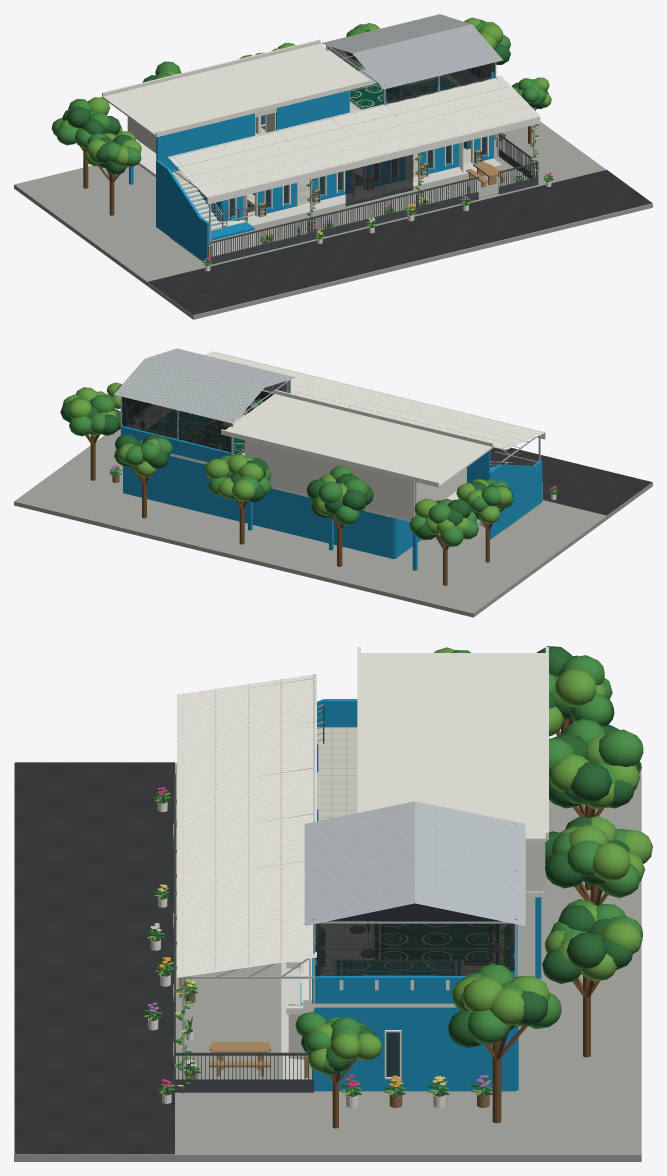
Rendered from lpq-building.glb.
3 views of the same model, one above another, from view 1: azimuth 30°, elevation 25°; view 2: azimuth 150°, elevation 25°; view 3: azimuth 270°, elevation 25° (orthographic). The views are drawn at different scales.
Parts seen in each view (by area): view 1: BUILDING Putih hangat.010, BUILDING Beton halaman.010, BUILDING Aspal bertekstur.001, BUILDING Cat biru fasad.010, BUILDING Baja galvanis.010, BUILDING Besi pagar.010, BUILDING Flora hijau 1.007, BUILDING Flora hijau 2.007, BUILDING Anyaman jaring.010, BUILDING Flora hijau 0.007, BUILDING Keramik terang.010, SHADE_REVEAL Anyaman jaring.010 (+6 smaller); view 2: BUILDING Beton halaman.010, BUILDING Putih hangat.010, BUILDING Cat biru fasad.010, BUILDING Baja galvanis.010, BUILDING Flora hijau 1.007, BUILDING Flora hijau 2.007, BUILDING Dinding interior putih.010, BUILDING Aspal bertekstur.001, BUILDING Flora hijau 0.007, SHADE_REVEAL Anyaman jaring.010, BUILDING Kulit pohon.007, BUILDING Karpet toska aula.007 (+1 smaller); view 3: BUILDING Putih hangat.010, BUILDING Aspal bertekstur.001, BUILDING Beton halaman.010, BUILDING Baja galvanis.010, BUILDING Cat biru fasad.010, BUILDING Flora hijau 2.007, BUILDING Flora hijau 1.007, BUILDING Flora hijau 0.007, SHADE_REVEAL Anyaman jaring.010, BUILDING Nat keramik.010, BUILDING Besi pagar.010, BUILDING Karpet hijau aula.007 (+6 smaller).
Boxes of the visible parts, box(x1,y1,x2,y2) form: BUILDING Putih hangat.010: box(102, 39, 551, 271); BUILDING Beton halaman.010: box(14, 120, 652, 319); BUILDING Aspal bertekstur.001: box(148, 170, 652, 315); BUILDING Cat biru fasad.010: box(129, 67, 494, 263); BUILDING Baja galvanis.010: box(168, 14, 535, 245); BUILDING Besi pagar.010: box(198, 87, 538, 264); BUILDING Flora hijau 1.007: box(51, 21, 553, 264); BUILDING Flora hijau 2.007: box(59, 17, 552, 265); BUILDING Anyaman jaring.010: box(345, 154, 413, 206); BUILDING Flora hijau 0.007: box(62, 19, 553, 264); BUILDING Keramik terang.010: box(239, 158, 501, 225); SHADE_REVEAL Anyaman jaring.010: box(328, 47, 494, 103); BUILDING Beton halaman.010: box(14, 429, 652, 617); BUILDING Putih hangat.010: box(128, 351, 556, 526); BUILDING Cat biru fasad.010: box(121, 390, 542, 570); BUILDING Baja galvanis.010: box(114, 348, 543, 468); BUILDING Flora hijau 1.007: box(69, 384, 557, 546); BUILDING Flora hijau 2.007: box(62, 382, 557, 534); BUILDING Dinding interior putih.010: box(245, 440, 466, 519); BUILDING Aspal bertekstur.001: box(255, 391, 652, 515); BUILDING Flora hijau 0.007: box(60, 398, 557, 539); SHADE_REVEAL Anyaman jaring.010: box(122, 381, 288, 452); BUILDING Kulit pohon.007: box(85, 434, 501, 585); BUILDING Karpet toska aula.007: box(145, 410, 214, 440); BUILDING Putih hangat.010: box(148, 647, 548, 1107); BUILDING Aspal bertekstur.001: box(15, 762, 174, 1154); BUILDING Beton halaman.010: box(14, 763, 641, 1161); BUILDING Baja galvanis.010: box(173, 674, 525, 1094); BUILDING Cat biru fasad.010: box(300, 699, 541, 1091); BUILDING Flora hijau 2.007: box(143, 647, 652, 1095); BUILDING Flora hijau 1.007: box(149, 650, 643, 1092); BUILDING Flora hijau 0.007: box(143, 646, 640, 1096); SHADE_REVEAL Anyaman jaring.010: box(315, 920, 514, 975); BUILDING Nat keramik.010: box(317, 727, 505, 974); BUILDING Besi pagar.010: box(174, 704, 375, 1092); BUILDING Karpet hijau aula.007: box(372, 924, 501, 965).
Bounding box in the file's own units: 34 × 8.21 × 23.42.
Materials: 41 (8 with a texture image).
